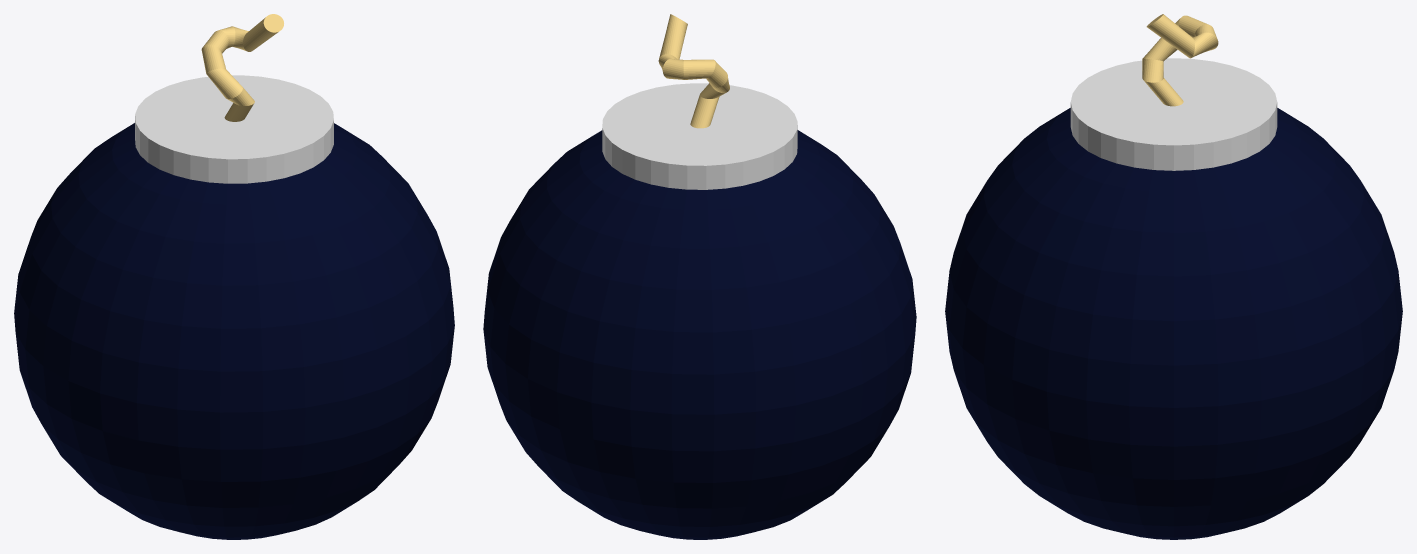
File: Bomb.fbx
3 renders of one model, left to right at view 1: azimuth 30°, elevation 25°; view 2: azimuth 150°, elevation 25°; view 3: azimuth 270°, elevation 25°, orthographic. The views are drawn at different scales.
Parts seen in each view (by area): view 1: Sphere, Top, Fuse; view 2: Sphere, Top, Fuse; view 3: Sphere, Top, Fuse.
Boxes of the visible parts, x1,y1,x2,y2 form: Sphere: (14,123,454,539); Top: (135,75,333,183); Fuse: (201,14,283,121); Sphere: (483,130,916,539); Top: (602,83,797,189); Fuse: (658,14,729,128); Sphere: (945,108,1402,539); Top: (1070,58,1277,170); Fuse: (1142,14,1218,106).
Bounding box in the file's own units: 200 × 251 × 200.
